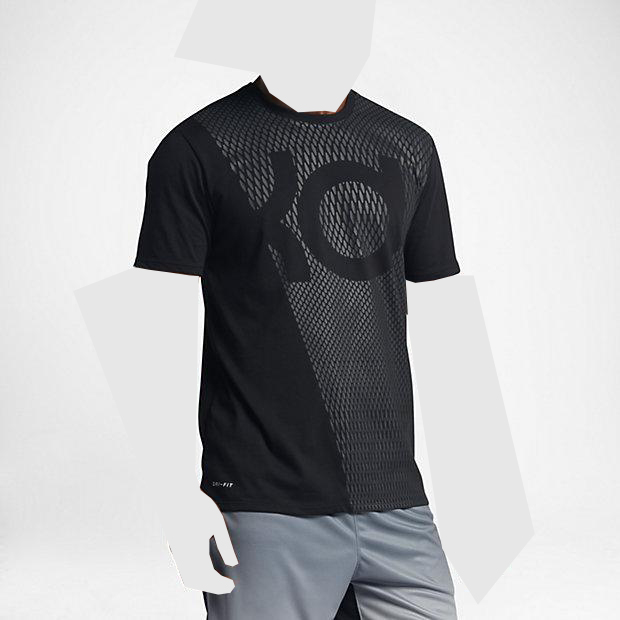teeshirt: (125, 73, 461, 514)
